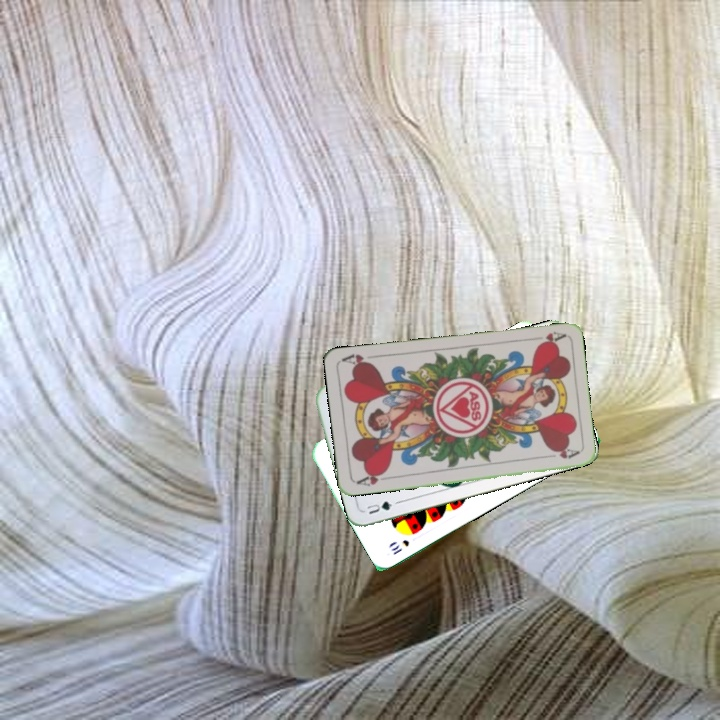GU: (363, 497, 395, 517)
HA: (352, 467, 393, 489), (526, 327, 567, 349)
S10: (387, 536, 412, 557)
